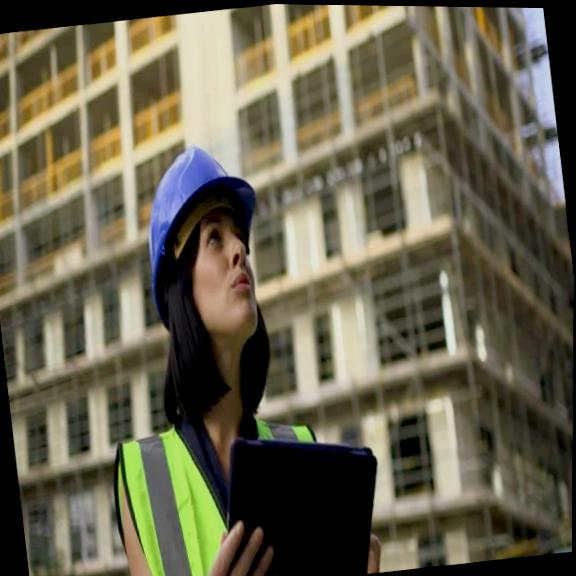safety_vest: (102, 403, 341, 576)
